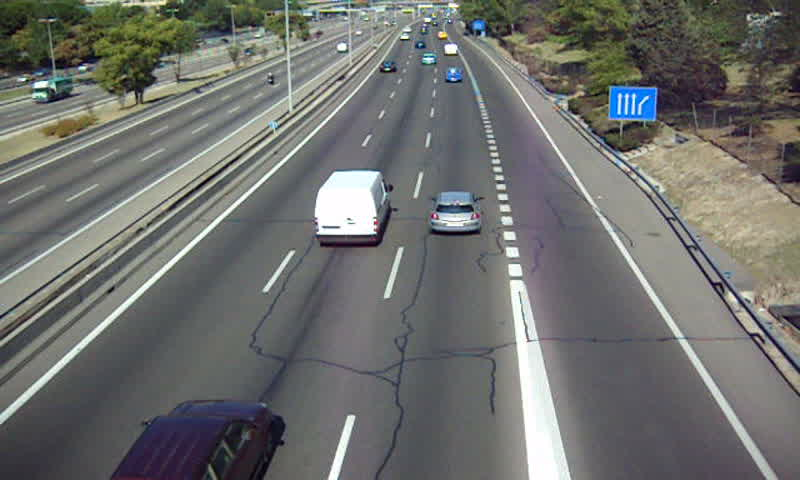car: (112, 402, 275, 480), (430, 192, 481, 234), (444, 66, 463, 83), (419, 52, 438, 67), (378, 60, 396, 73)
van: (315, 171, 391, 246)
